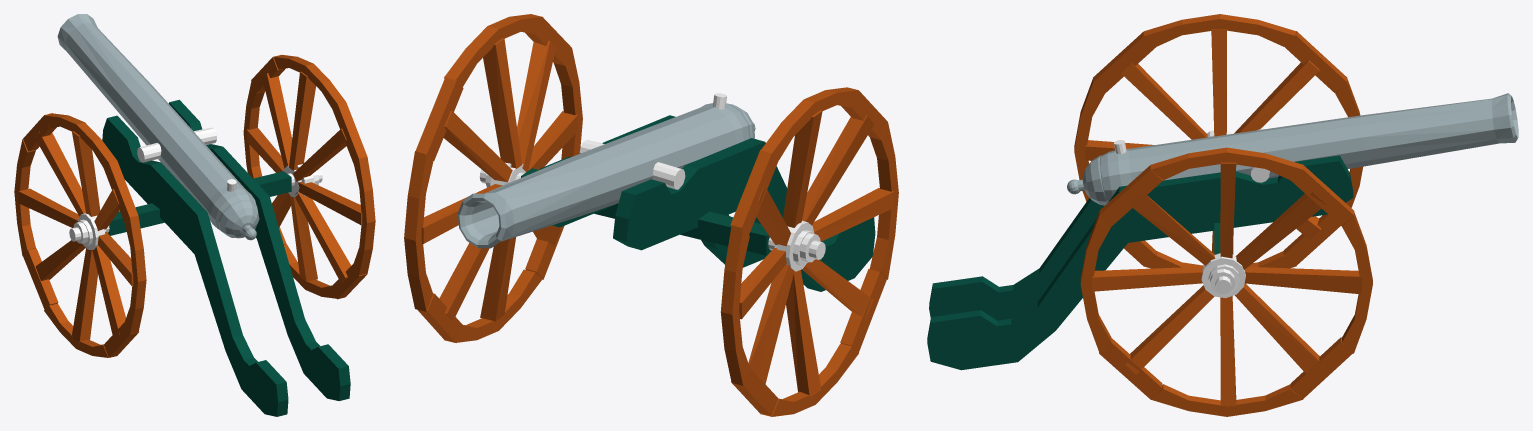
3 views of the same model, side by side, from view 1: azimuth 30°, elevation 25°; view 2: azimuth 150°, elevation 25°; view 3: azimuth 270°, elevation 25° (orthographic). The views are drawn at different scales.
Visible parts, largest first — view 1: group733241714, group409098393, group729818692, group2009397206, group163975949, group1554792835, group385947151, group1058046850; view 2: group733241714, group409098393, group163975949, group729818692, group1058046850, group2009397206, group1554792835; view 3: group733241714, group409098393, group2009397206, group1554792835, group729818692, group385947151.
Part boxes in pixels (left/top/right/bottom): group733241714: left=14, top=54, right=375, bottom=357; group409098393: left=57, top=14, right=256, bottom=230; group729818692: left=194, top=212, right=288, bottom=416; group2009397206: left=256, top=196, right=350, bottom=400; group163975949: left=102, top=115, right=207, bottom=253; group1554792835: left=169, top=99, right=269, bottom=237; group385947151: left=218, top=200, right=259, bottom=238; group1058046850: left=137, top=143, right=161, bottom=162; group733241714: left=404, top=14, right=898, bottom=416; group409098393: left=457, top=103, right=750, bottom=248; group163975949: left=613, top=138, right=764, bottom=250; group729818692: left=756, top=142, right=875, bottom=291; group1058046850: left=652, top=162, right=685, bottom=189; group2009397206: left=701, top=214, right=767, bottom=267; group1554792835: left=540, top=115, right=675, bottom=227; group733241714: left=1074, top=14, right=1372, bottom=416; group409098393: left=1100, top=93, right=1518, bottom=201; group2009397206: left=927, top=187, right=1127, bottom=370; group1554792835: left=1119, top=155, right=1353, bottom=242; group729818692: left=929, top=197, right=1104, bottom=320; group385947151: left=1082, top=155, right=1108, bottom=205.
Size of the model in its own units: 0.5331 by 0.4698 by 0.9293.
